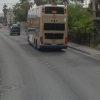Bus: (23, 4, 73, 55)
